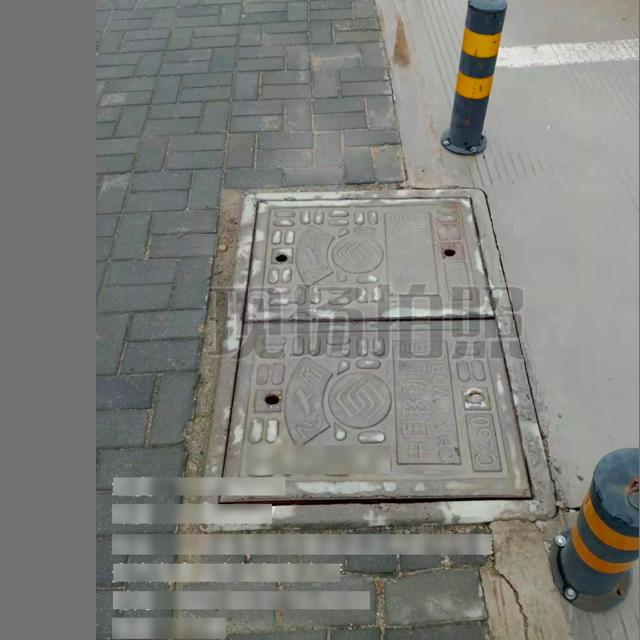good: (221, 185, 534, 512)
